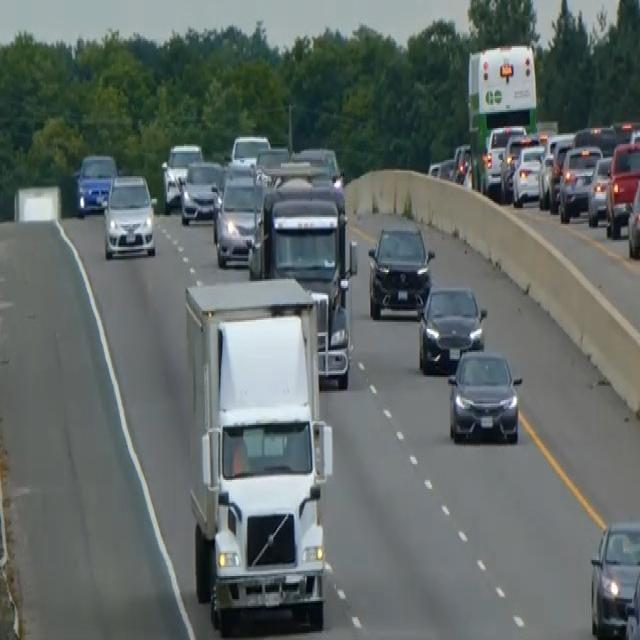car: (447, 346, 522, 444), (366, 222, 434, 320), (417, 283, 487, 373), (588, 518, 639, 638), (212, 172, 266, 266), (102, 170, 156, 260), (558, 142, 602, 222), (604, 139, 639, 238), (481, 123, 525, 192), (160, 140, 202, 212), (179, 158, 223, 224), (74, 151, 117, 217), (537, 132, 574, 208), (511, 140, 545, 207), (295, 144, 343, 187), (499, 133, 529, 199), (586, 154, 612, 226), (572, 123, 618, 158), (229, 132, 270, 164), (160, 158, 181, 214), (626, 172, 639, 258), (255, 144, 289, 171), (451, 142, 472, 185)
lorry: (182, 274, 333, 631), (247, 180, 358, 388)
